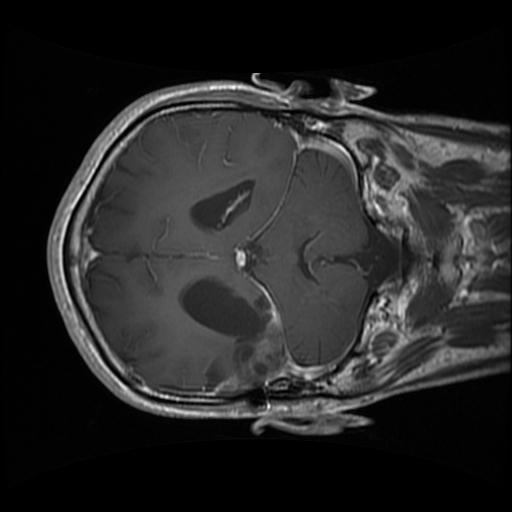glioma: (175, 272, 293, 400)
